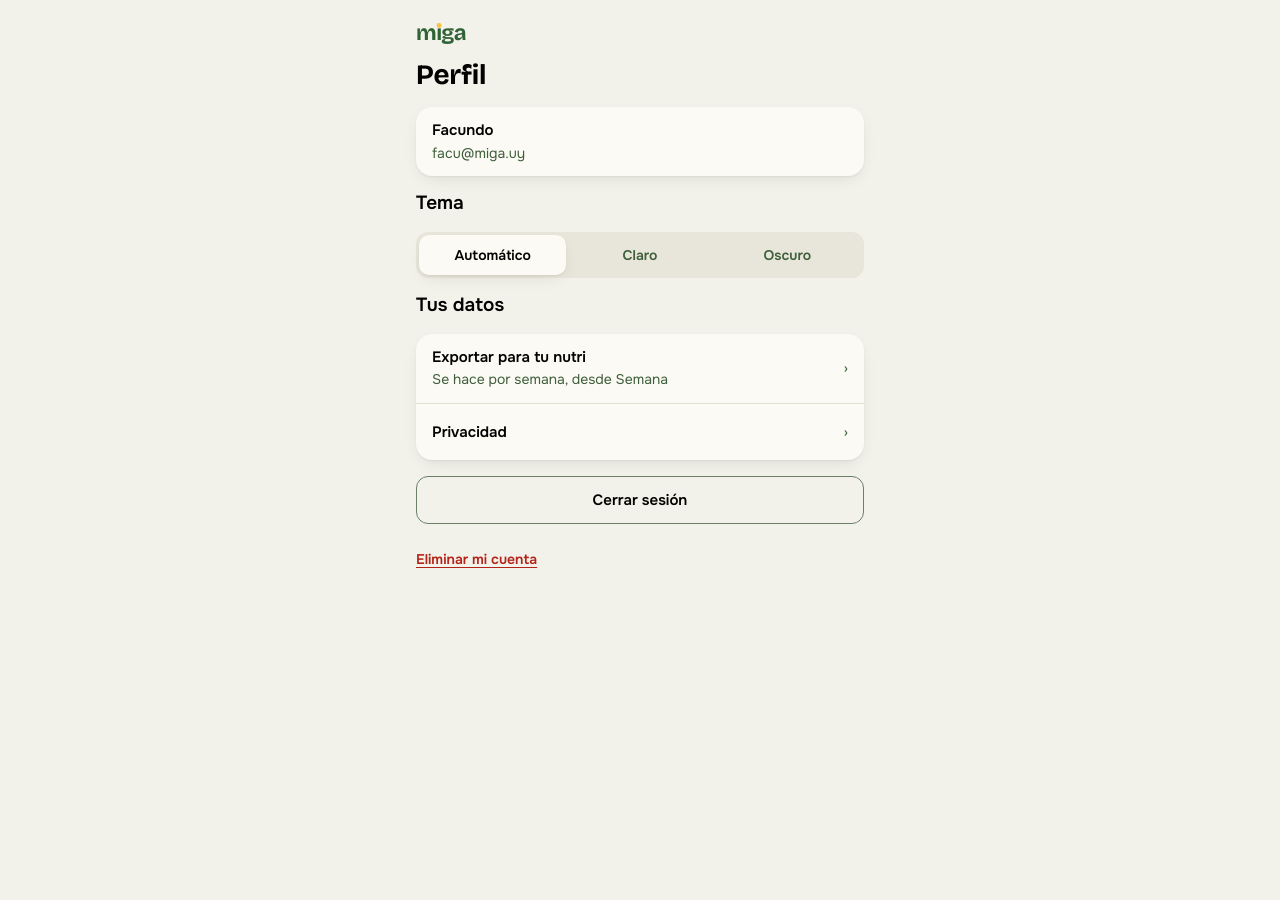
Test: elimina la cuenta, cierra sesión y vuelve al inicio con mensaje
Click the button "Eliminar mi cuenta" at (477,560), box [416,540,537,580]
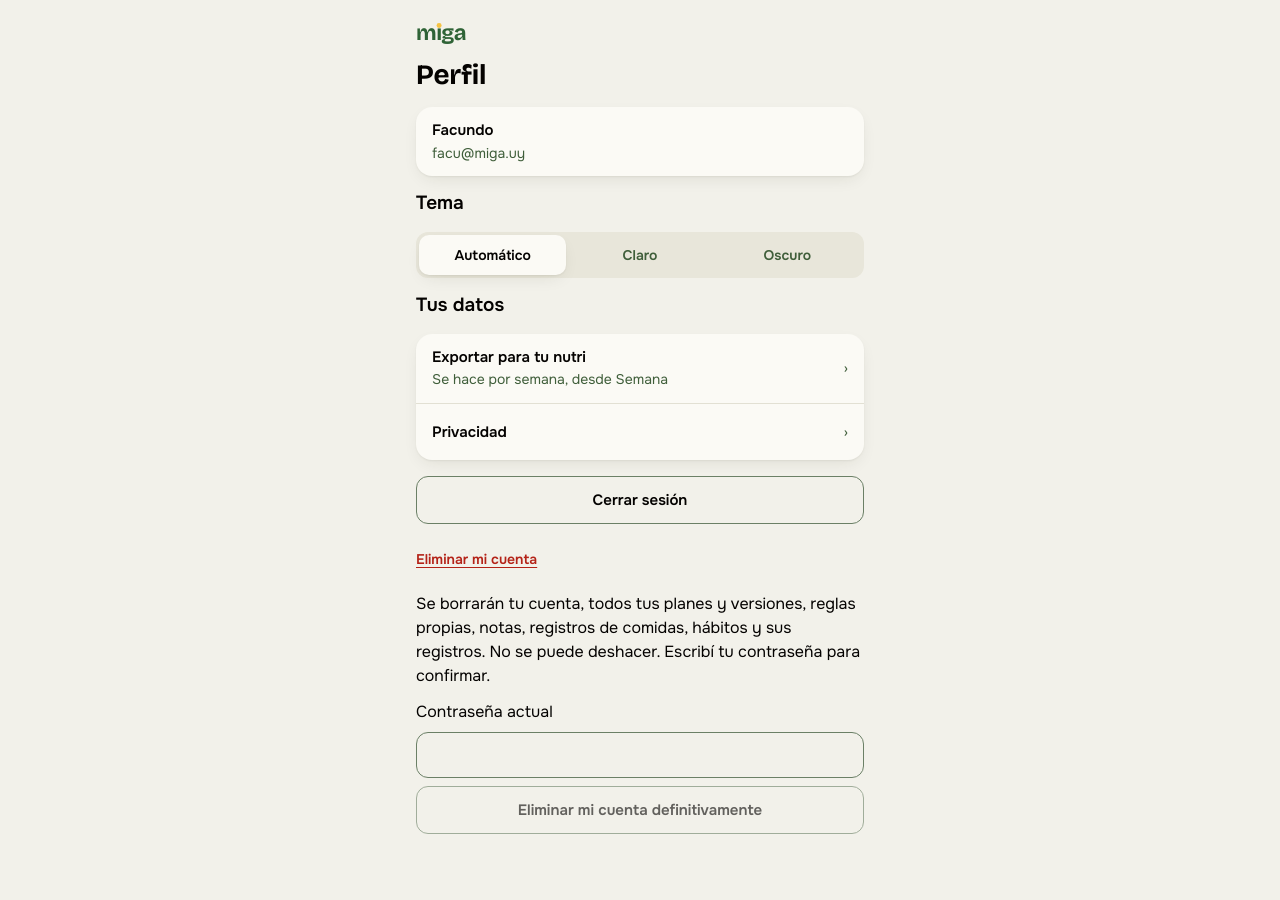
Type "correcta" into the password field labelled "Contraseña actual" at (640,755), box [416,732,864,778]
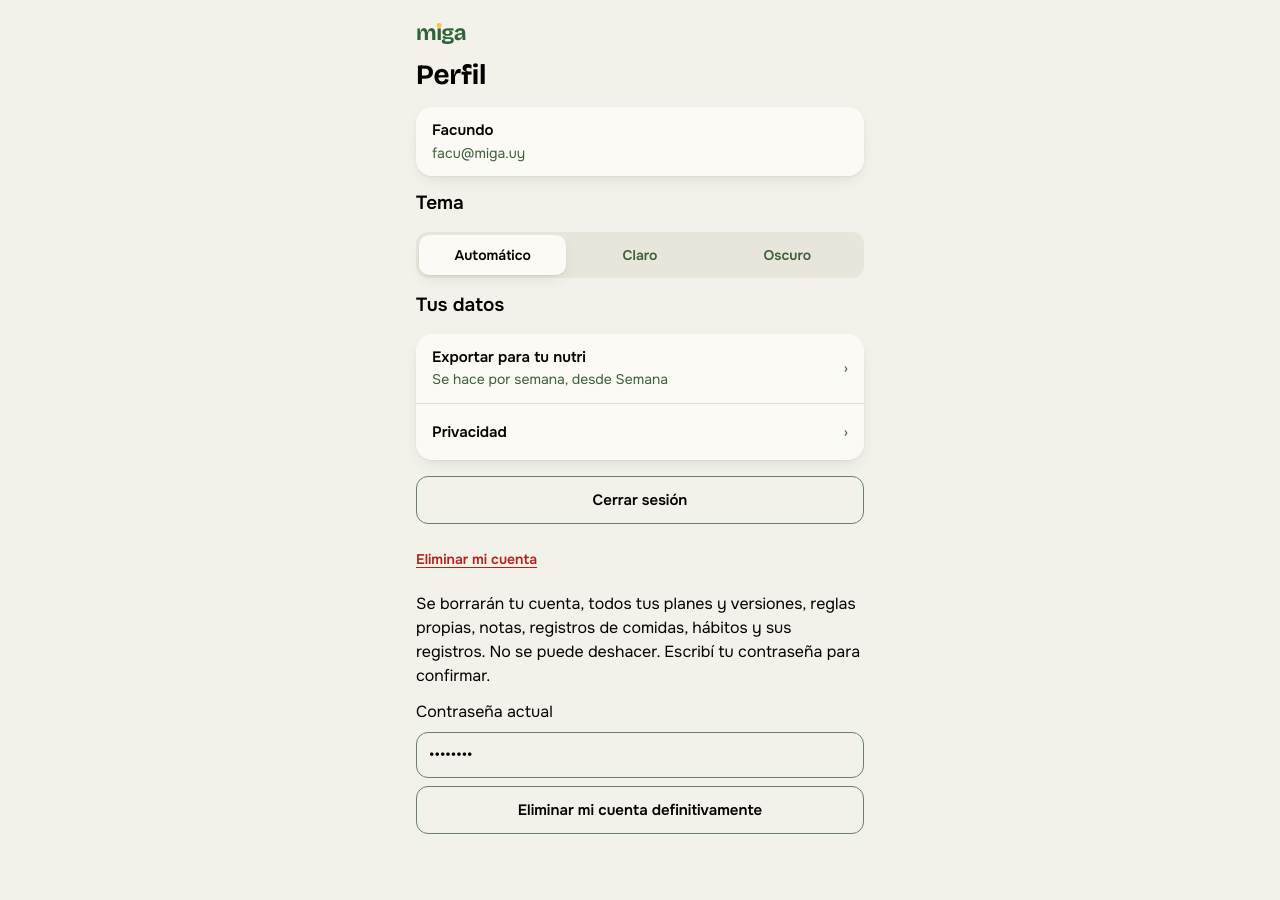
Click the button "Eliminar mi cuenta definitivamente" at (640,810), box [416,786,864,834]
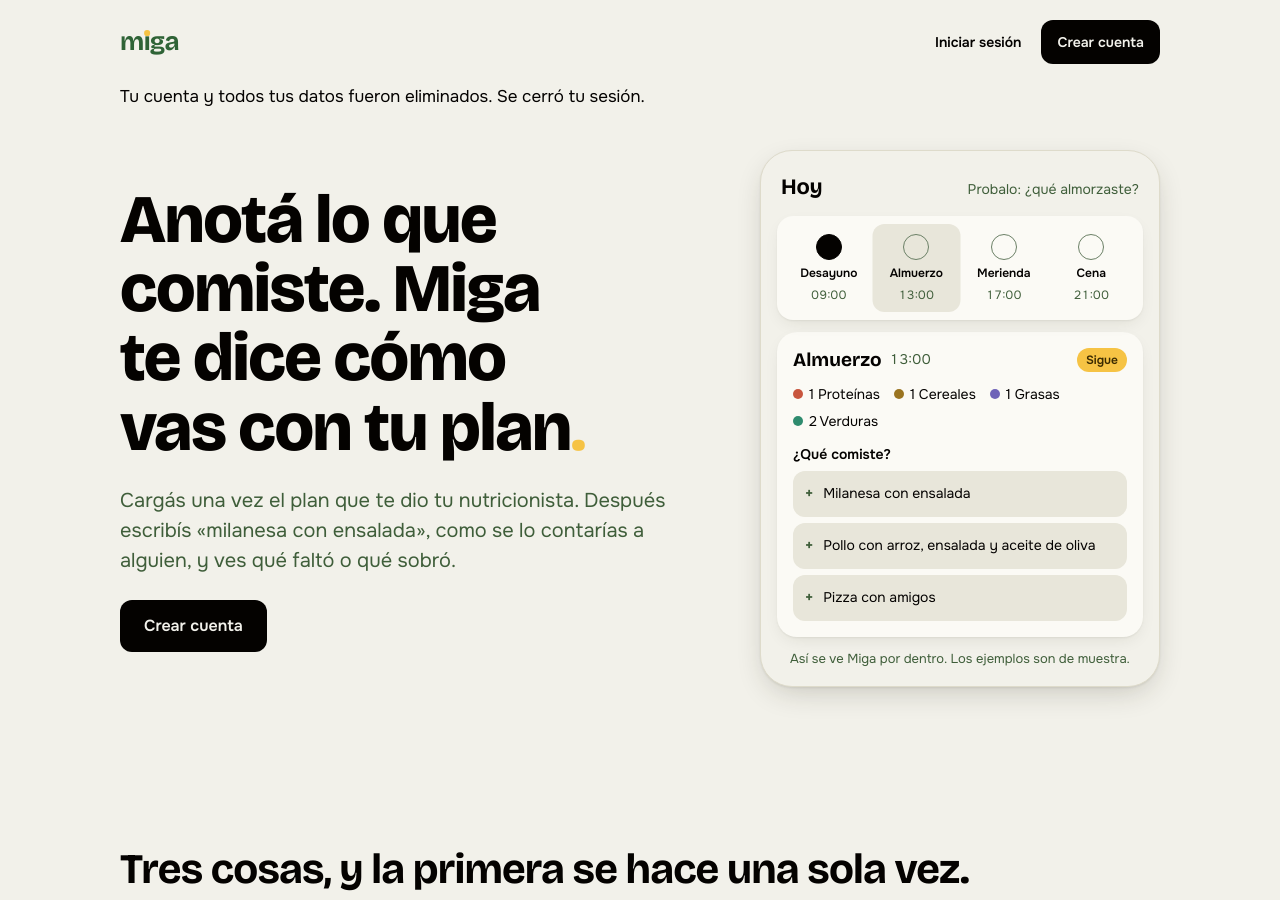
Check: the message shows "Tu cuenta y todos tus datos fueron eliminados", box [120,86,645,107]
